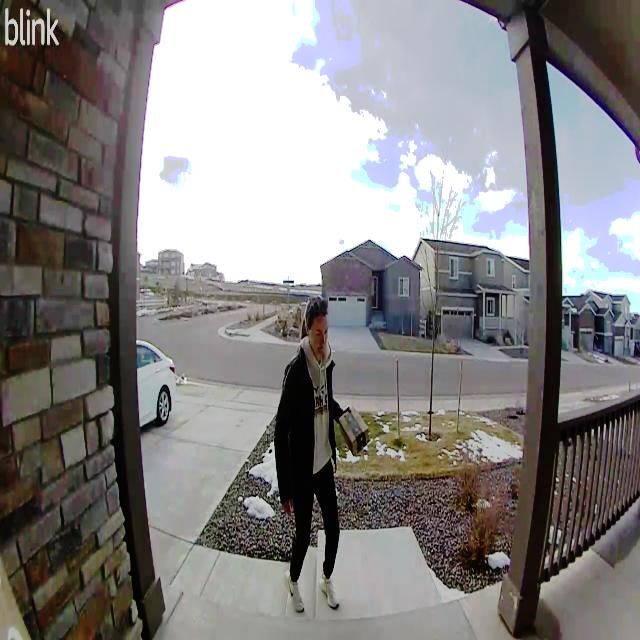Box: (338, 402, 370, 457)
